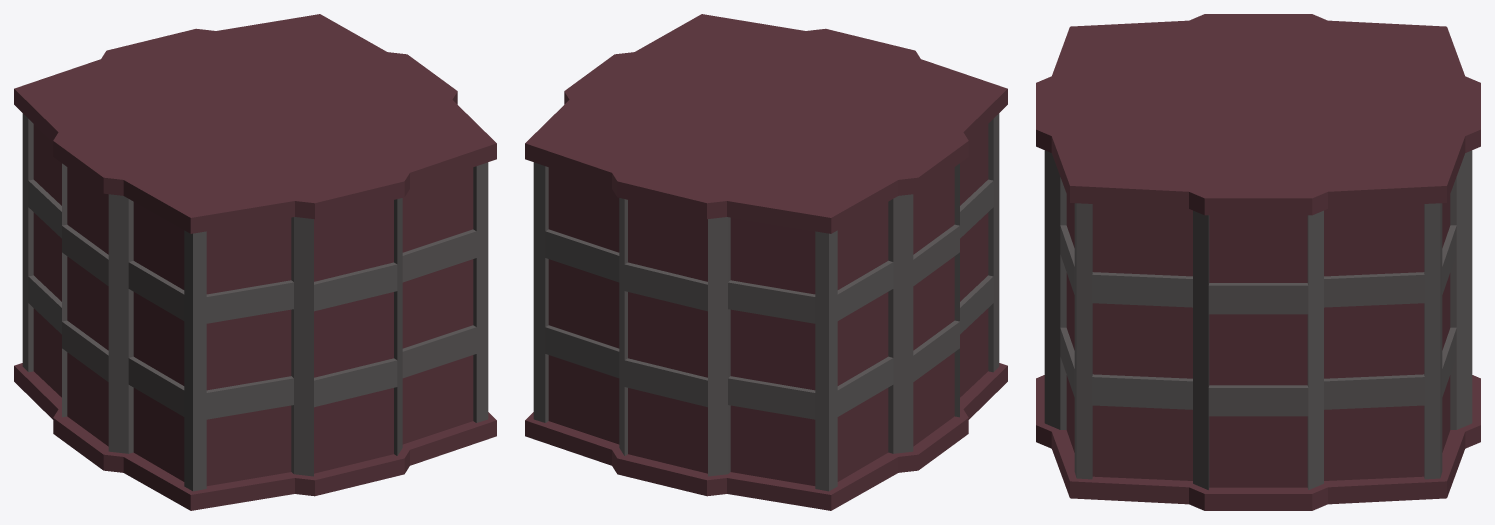
File: skyscraper2-part-middle-small.fbx
The picture shows the model from 3 angles, left to right: view 1: azimuth 30°, elevation 25°; view 2: azimuth 150°, elevation 25°; view 3: azimuth 270°, elevation 25°; orthographic projection. The views are drawn at different scales.
Parts seen in each view (by area): view 1: skyscraper2-part-middle-small; view 2: skyscraper2-part-middle-small; view 3: skyscraper2-part-middle-small.
Part boxes in pixels (x1,y1,x2,y2): skyscraper2-part-middle-small: [14, 14, 496, 510]; skyscraper2-part-middle-small: [525, 14, 1007, 510]; skyscraper2-part-middle-small: [1036, 14, 1480, 510].
Bounding box in the file's own units: 13.92 × 11 × 14.19.
